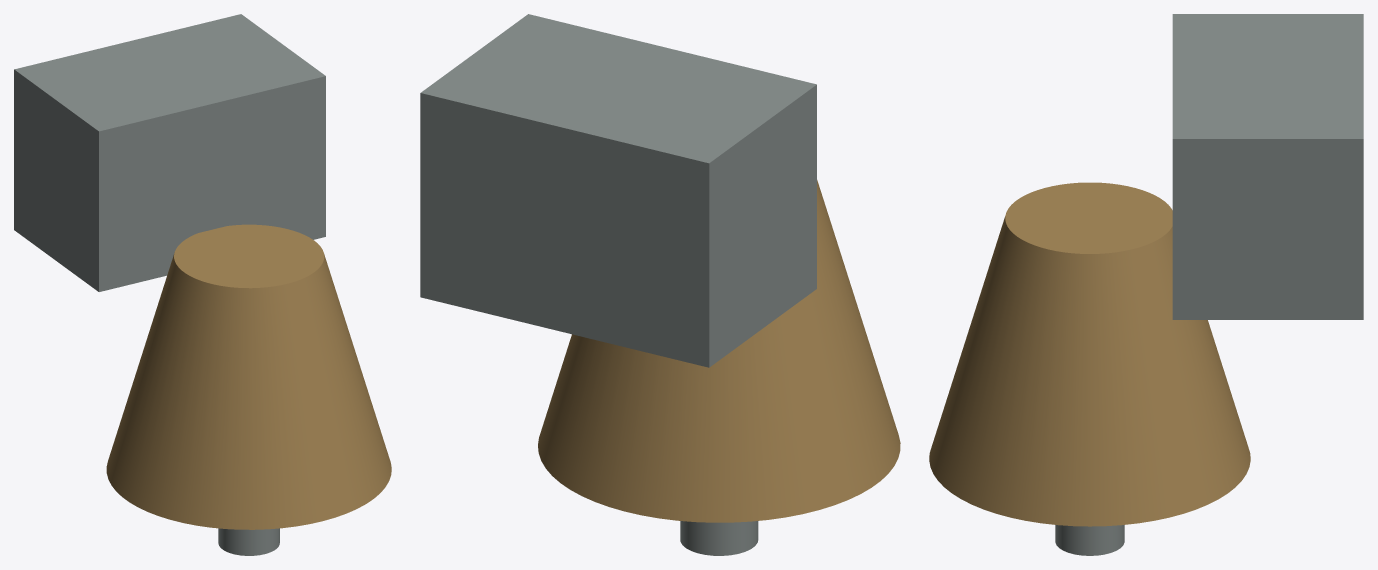
Rendered from shop_door_bell.glb.
3 views of the same model, side by side, from view 1: azimuth 30°, elevation 25°; view 2: azimuth 150°, elevation 25°; view 3: azimuth 270°, elevation 25° (orthographic). The views are drawn at different scales.
Parts seen in each view (by area): view 1: Mounting bracket, Bell shell, Clapper; view 2: Mounting bracket, Bell shell, Clapper; view 3: Bell shell, Mounting bracket, Clapper.
Boxes of the visible parts, x1,y1,x2,y2 form: Mounting bracket: (14,14,325,291); Bell shell: (106,224,391,529); Clapper: (218,528,279,555); Mounting bracket: (420,14,816,367); Bell shell: (538,180,900,522); Clapper: (680,521,758,555); Bell shell: (929,182,1250,526); Mounting bracket: (1172,14,1363,319); Clapper: (1055,525,1124,555).
Bounding box in the file's own units: 0.074 × 0.118 × 0.1.
